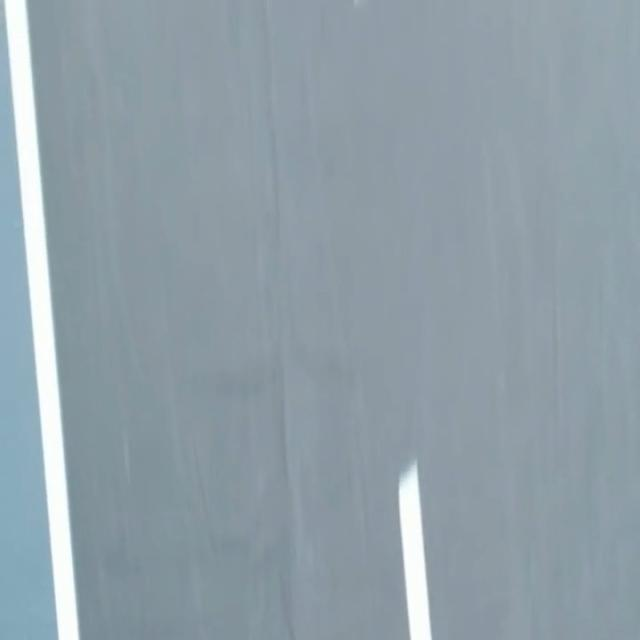center: (399, 460, 432, 639)
left: (4, 0, 79, 639)
